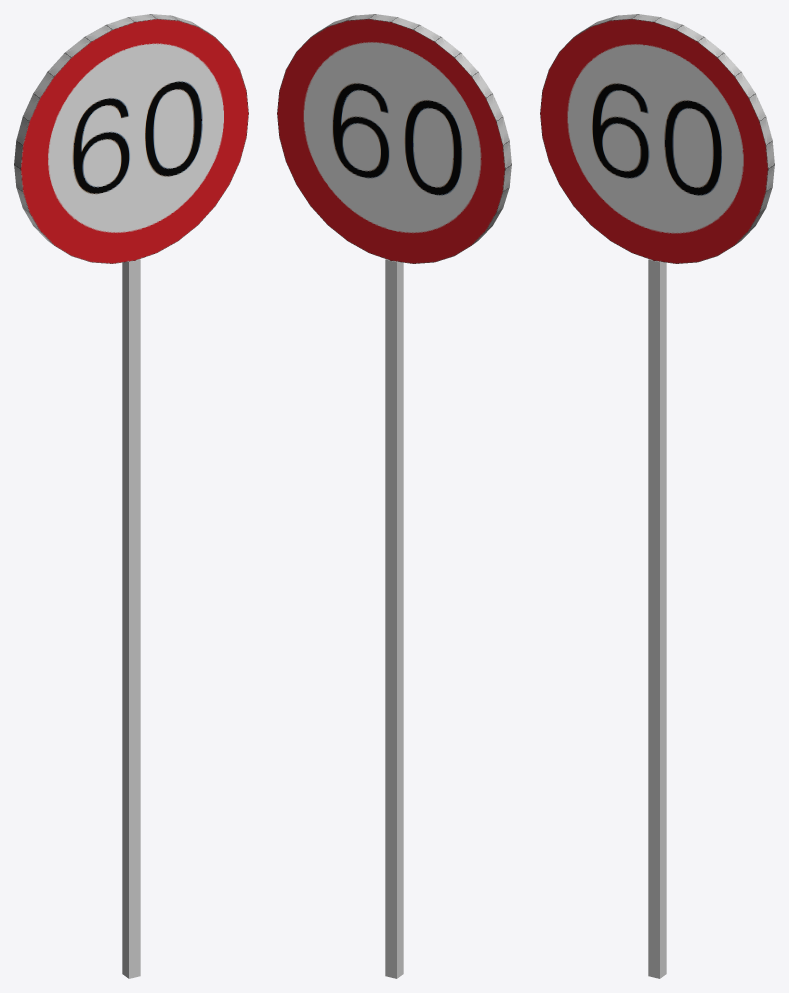
File: speed60.fbx
3 renders of one model, left to right at view 1: azimuth 30°, elevation 25°; view 2: azimuth 150°, elevation 25°; view 3: azimuth 330°, elevation 25°, orthographic.
Parts seen in each view (by area): view 1: Cylinder, Cube; view 2: Cylinder, Cube; view 3: Cylinder, Cube.
Part boxes in pixels (box(x1,y1,x2,y2)): Cylinder: box(14, 14, 248, 263); Cube: box(122, 259, 140, 978); Cylinder: box(277, 14, 511, 263); Cube: box(385, 259, 403, 978); Cylinder: box(540, 14, 774, 263); Cube: box(648, 259, 666, 978).
Bounding box in the file's own units: 200 × 800 × 10.
